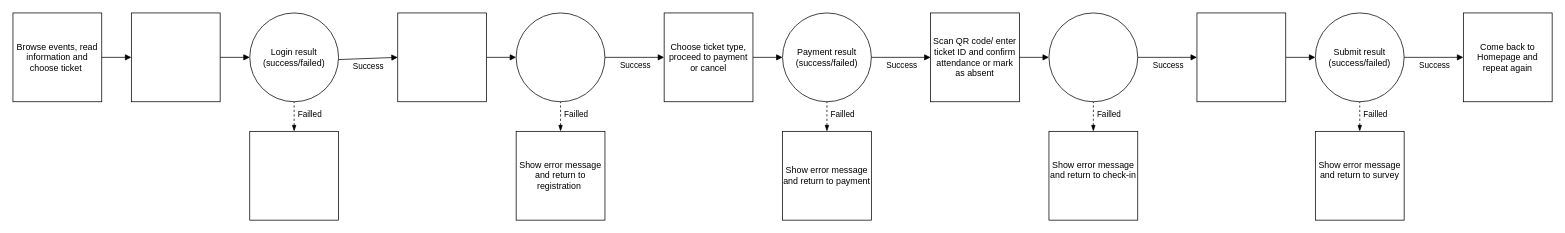
The diagram is 1565 pixels wide and 233 high, and some of its shapes have lost their labels. Here are the shapes that lost their labels. From the top down, the centre of each, then its label:
the point at 175,57: Log in with username and password
the point at 442,57: Register for event and fill in information and submit
the point at 560,57: Registration result (success/failed)
the point at 1093,57: Check-in result (success/failed)
the point at 1241,57: Answer event feedback and survey questions
the point at 294,175: Show error message and return to login
